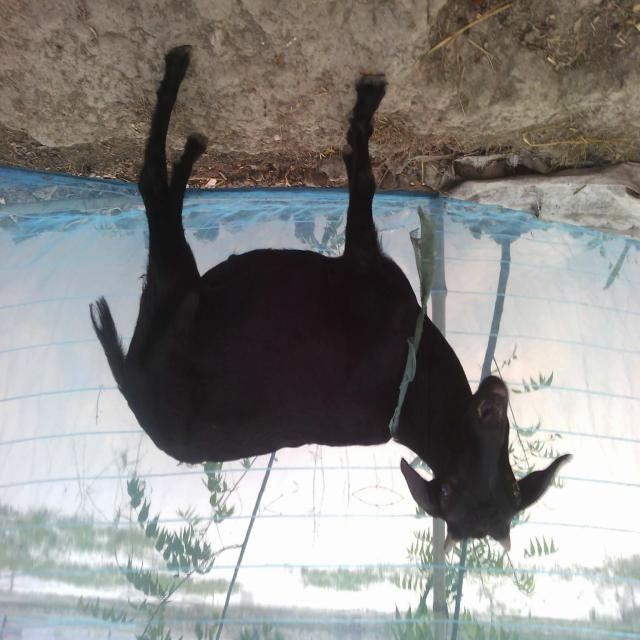Goat: (88, 45, 573, 556)
